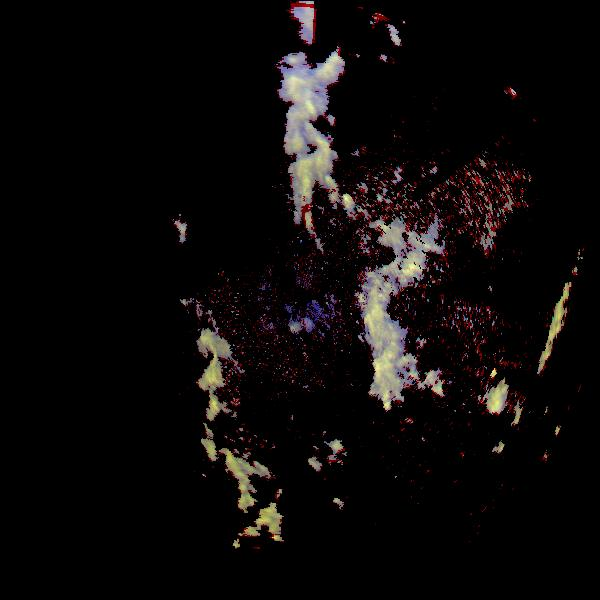roost: (290, 416, 296, 422), (287, 428, 290, 431)
